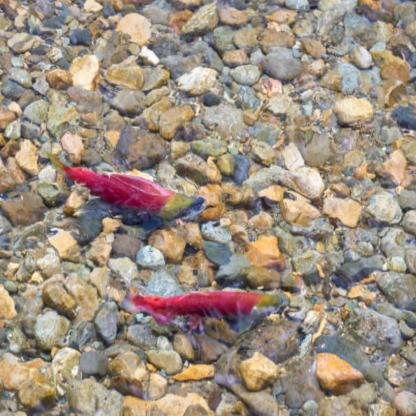sockeye: (51, 144, 202, 237)
